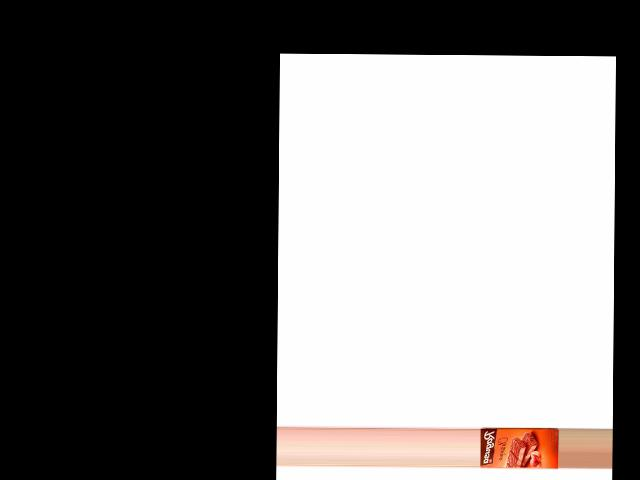chocolate: (481, 425, 559, 473)
